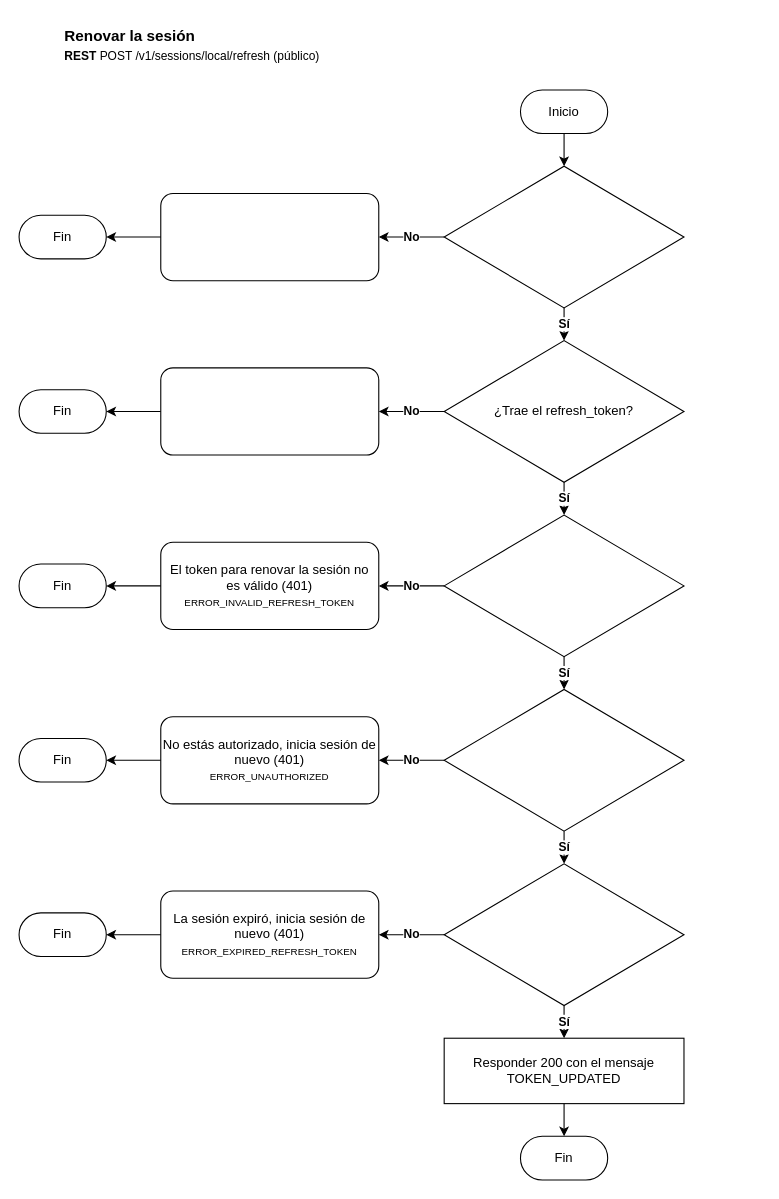
Image size: 779x1199. Some labels were removed from this diagram. Here are the shapes that lost their labels. From the top down, the centre of each, then its label:
At point 269,236: "Servidor sin emparejar (409) ERROR_SERVER_NOT_PAIRED".
At point 563,236: "¿El servidor ya se emparejó alguna vez (pairing_status distinto de unpaired)?".
At point 269,411: "Falta el refresh_token (401) ERROR_MISSING_REFRESH_TOKEN".
At point 563,585: "¿El refresh_token es válido?".
At point 563,759: "¿La sesión existe, está activa y el empleado está activo?".
At point 563,934: "¿La sesión sigue vigente?".
